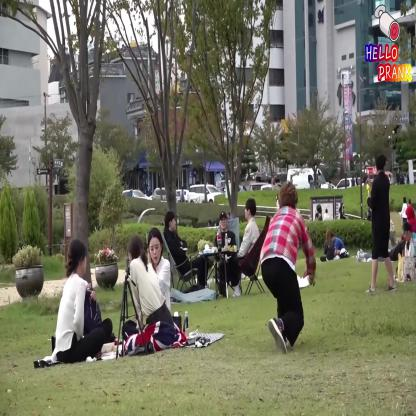Fall_Down: (257, 180, 318, 360)
